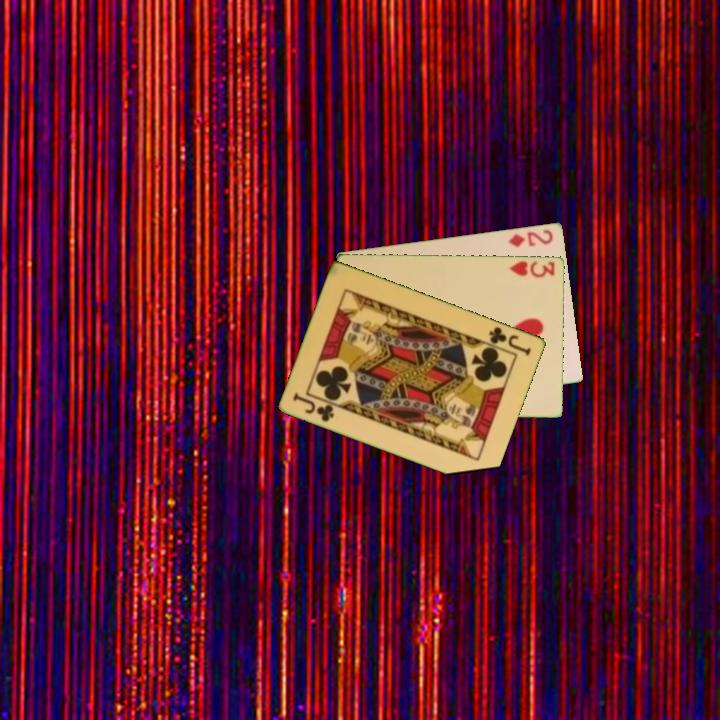2d: (505, 226, 556, 250)
3h: (506, 257, 558, 280)
Jc: (486, 323, 534, 358), (290, 389, 338, 424)
